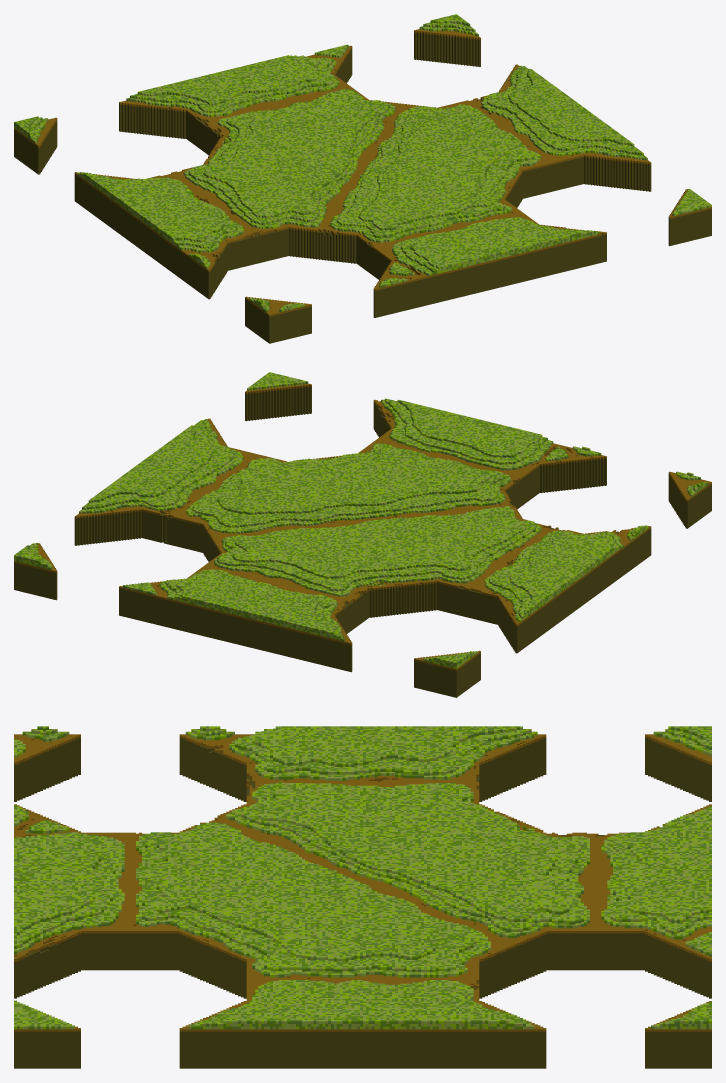
The model's file is Tab B2-0.obj.
The picture shows the model from 3 angles, top to bottom: view 1: azimuth 30°, elevation 25°; view 2: azimuth 150°, elevation 25°; view 3: azimuth 270°, elevation 25°; orthographic projection. The views are drawn at different scales.
Size of the model in its own units: 24 by 1.8 by 24.
1 material, 1 textured.
